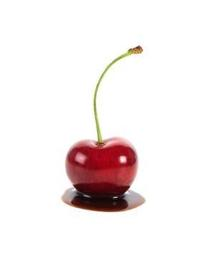cherry: (65, 137, 138, 203)
